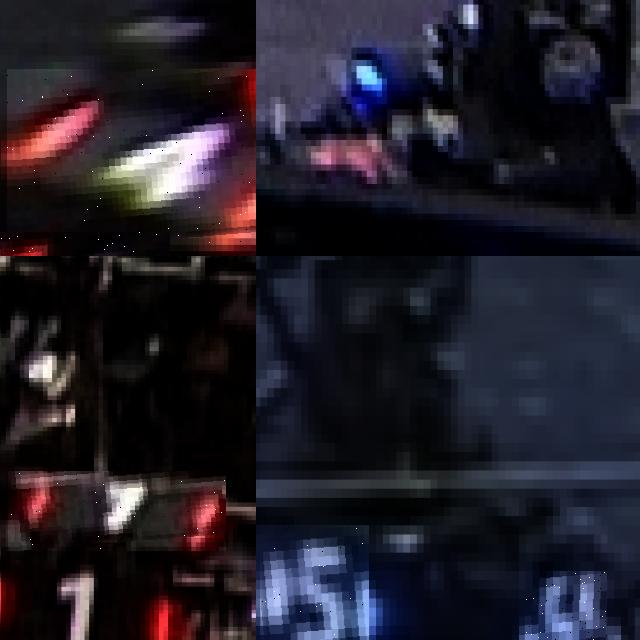B5: (256, 525, 369, 640), (518, 571, 607, 640)
R1: (8, 471, 226, 551), (0, 553, 188, 640)
R4: (6, 68, 256, 251)
